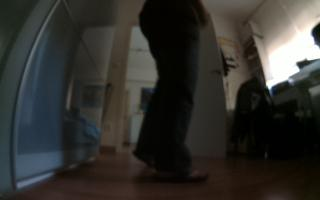person: (130, 1, 214, 190)
